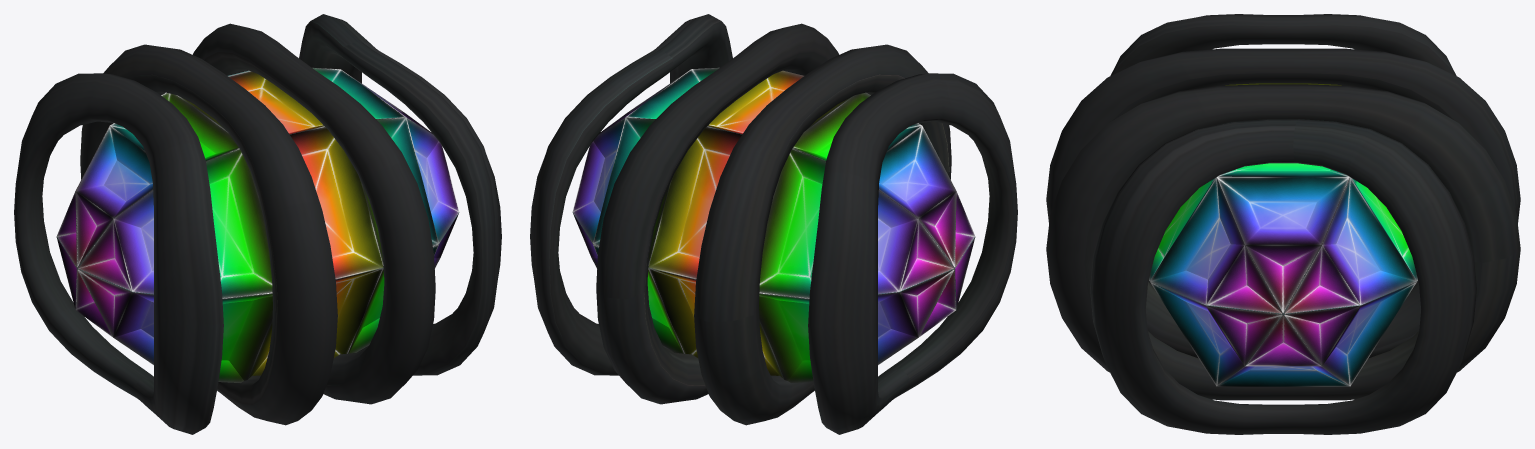
The model's file is Artifact03.FBX.
3 renders of one model, left to right at view 1: azimuth 30°, elevation 25°; view 2: azimuth 150°, elevation 25°; view 3: azimuth 270°, elevation 25°, orthographic.
Visible parts, largest first — view 1: Artifact03; view 2: Artifact03; view 3: Artifact03.
Boxes of the visible parts, <box> form: Artifact03: <box>14,14,501,434</box>; Artifact03: <box>530,14,1017,434</box>; Artifact03: <box>1046,14,1520,434</box>.
Bounding box in the file's own units: 26.28 × 21.12 × 29.31.
